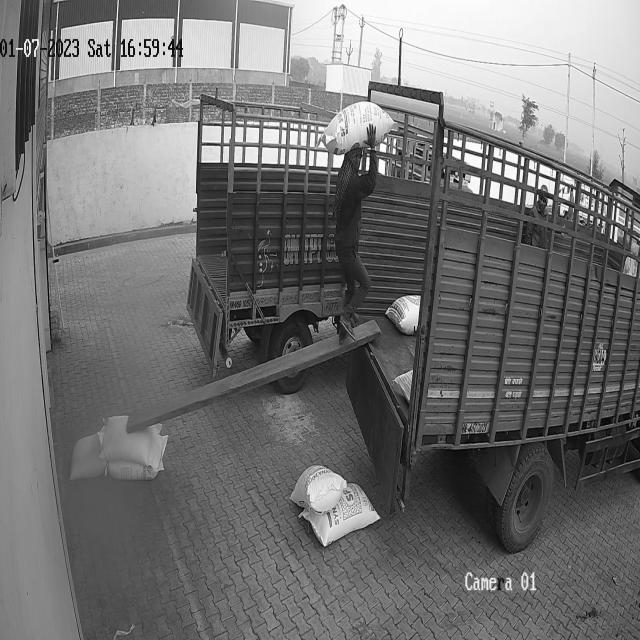sack: (299, 483, 380, 546), (321, 102, 395, 156), (100, 416, 162, 464), (106, 434, 168, 481), (290, 465, 346, 513), (68, 432, 108, 479)
